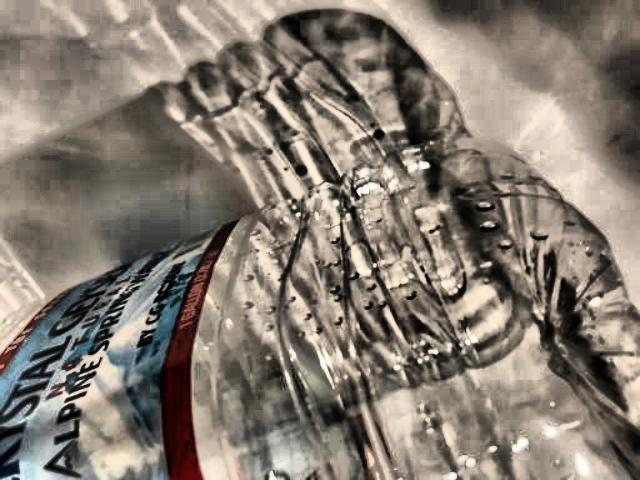Bottles: (5, 141, 640, 479)
